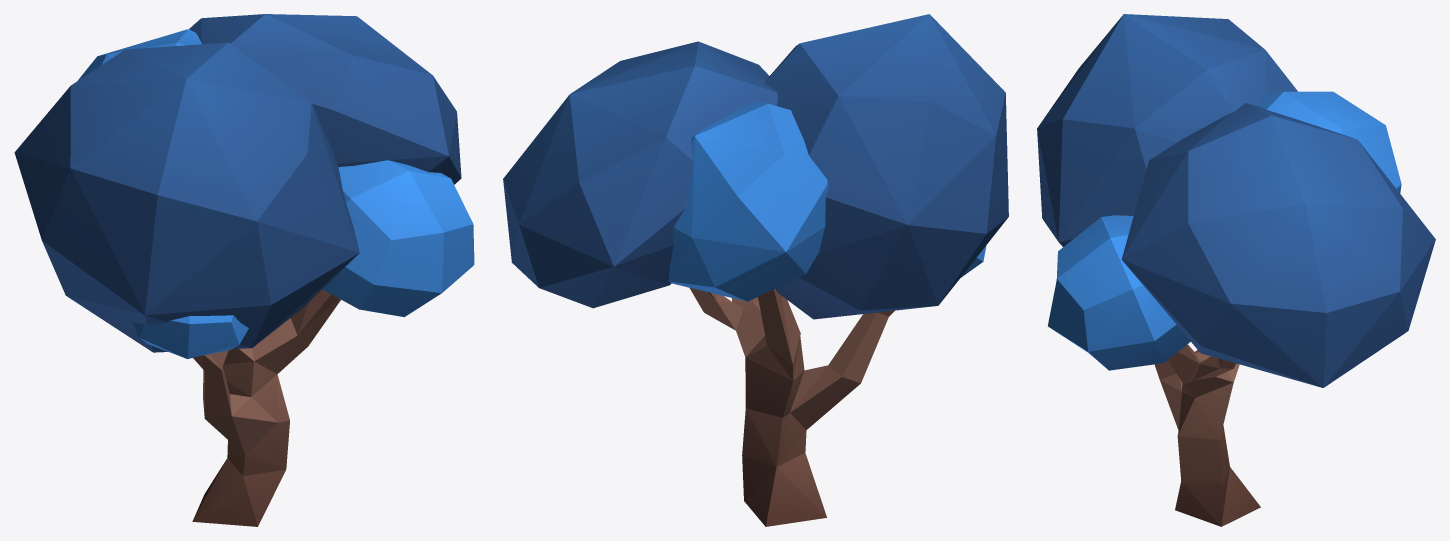
File: BlueTree1.fbx
3 views of the same model, side by side, from view 1: azimuth 30°, elevation 25°; view 2: azimuth 150°, elevation 25°; view 3: azimuth 270°, elevation 25° (orthographic). The views are drawn at different scales.
Parts seen in each view (by area): view 1: BlueTree1; view 2: BlueTree1; view 3: BlueTree1.
Part boxes in pixels (box(x1,y1,x2,y2)): BlueTree1: box(14, 14, 474, 526); BlueTree1: box(503, 14, 1008, 526); BlueTree1: box(1037, 14, 1435, 526).
Bounding box in the file's own units: 484 × 530 × 424.
